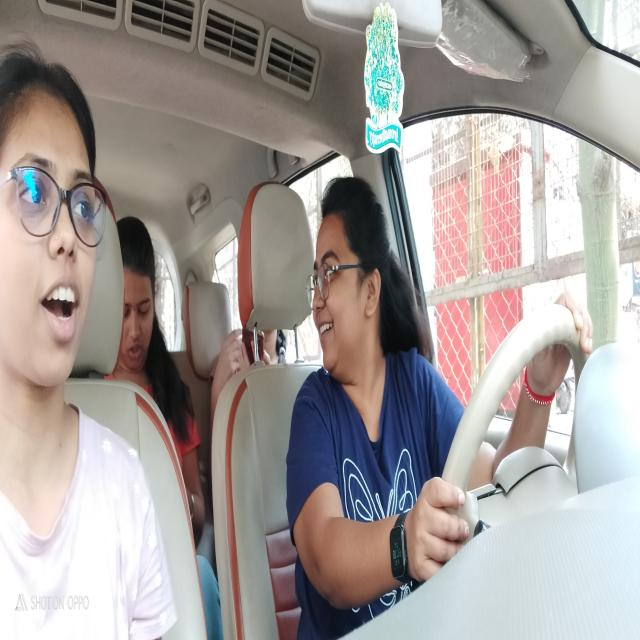LeftRight: (309, 169, 399, 385)
person: (2, 44, 103, 410), (114, 207, 165, 378)
talking: (40, 272, 84, 344), (314, 315, 336, 344)
